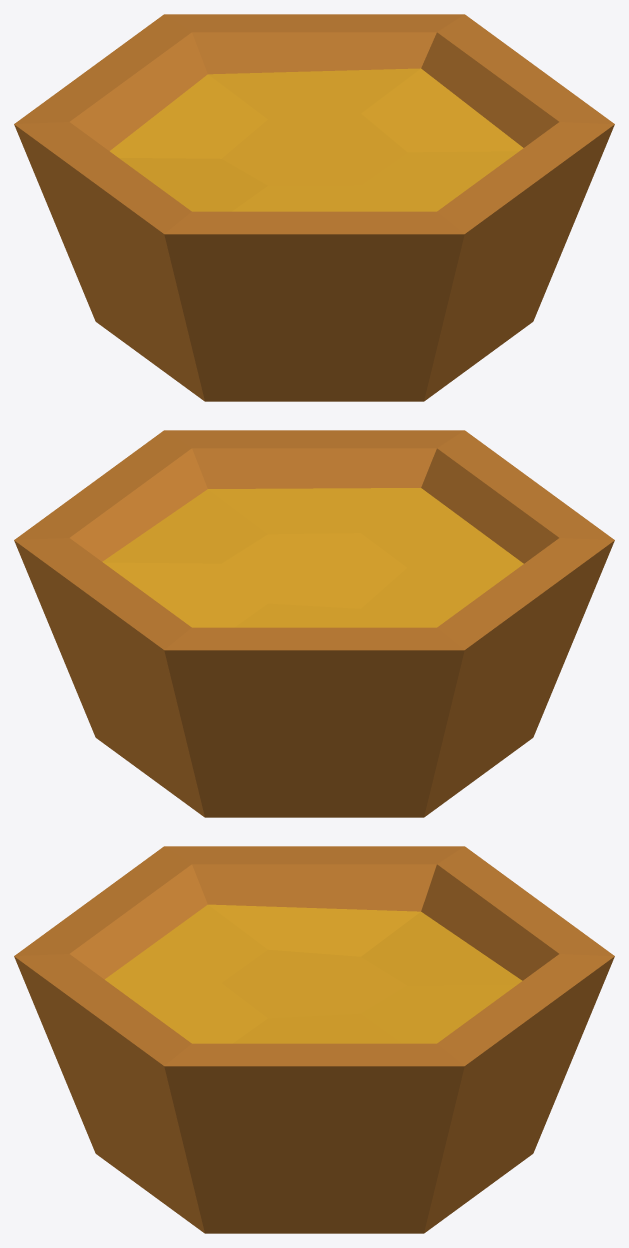
File: C_Pastel_de_Nata.fbx
3 renders of one model, top to bottom at view 1: azimuth 30°, elevation 25°; view 2: azimuth 150°, elevation 25°; view 3: azimuth 270°, elevation 25°, orthographic.
Visible parts, largest first — view 1: C_Pastel_de_Nata; view 2: C_Pastel_de_Nata; view 3: C_Pastel_de_Nata.
Part boxes in pixels (left/top/right/bottom): C_Pastel_de_Nata: left=14, top=14, right=614, bottom=401; C_Pastel_de_Nata: left=14, top=430, right=614, bottom=817; C_Pastel_de_Nata: left=14, top=846, right=614, bottom=1233.
Bounding box in the file's own units: 50.93 × 58.81 × 21.57.
